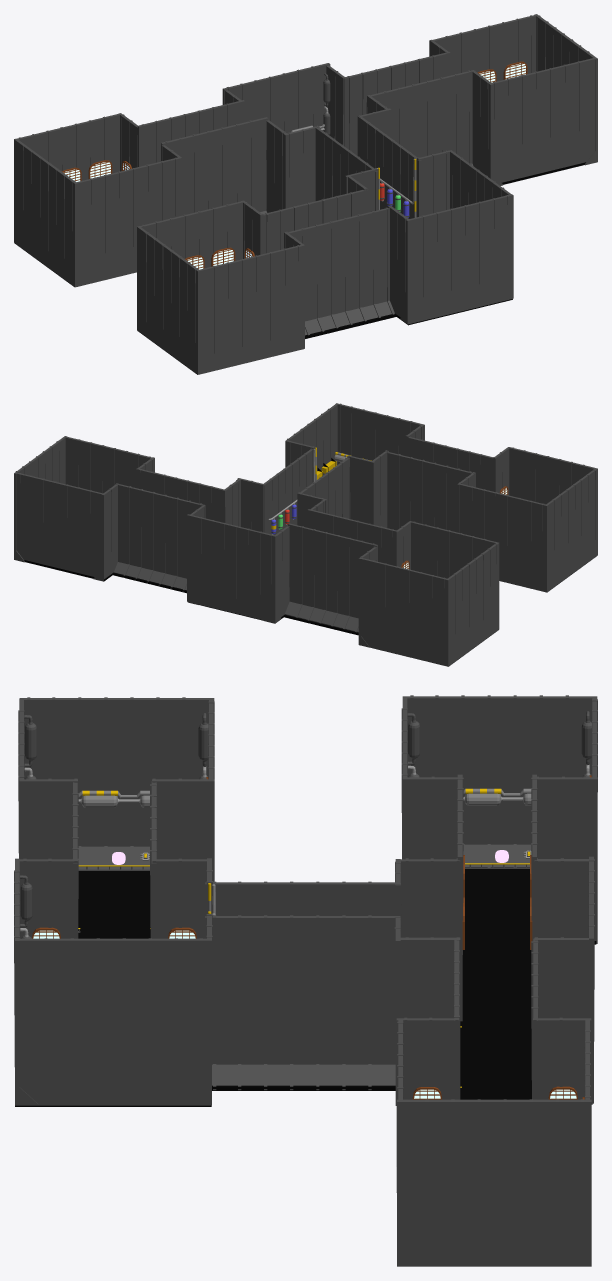
Rendered from Room5 (2).fbx.
3 views of the same model, one above another, from view 1: azimuth 30°, elevation 25°; view 2: azimuth 150°, elevation 25°; view 3: azimuth 270°, elevation 25° (orthographic). The views are drawn at different scales.
Parts seen in each view (by area): view 1: Room5; view 2: Room5; view 3: Room5.
Boxes of the visible parts, box(x1,y1,x2,y2) form: Room5: box(14, 14, 597, 374); Room5: box(14, 403, 597, 666); Room5: box(14, 695, 597, 1266).
Size of the model in its own units: 58956 by 11569 by 35883.
